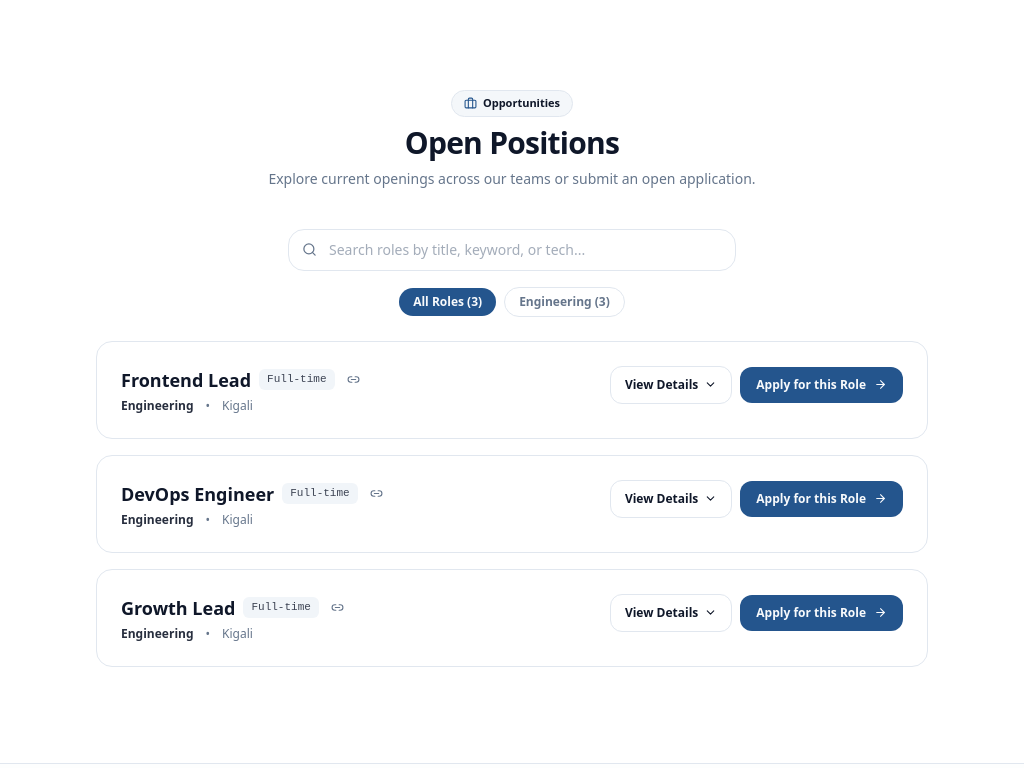
Careers — open positions › collapses role details when > 2 roles are present and toggles on click
This screenshot has width=1024, height=768.
(page scrolled)
Expected: the text "Lead the frontend team." is not shown
Expected: the text "React 19" is not shown
Click the button "View Details" in the row of "Frontend Lead".
click(671, 384)  # box x1=610 y1=366 x2=732 y2=404
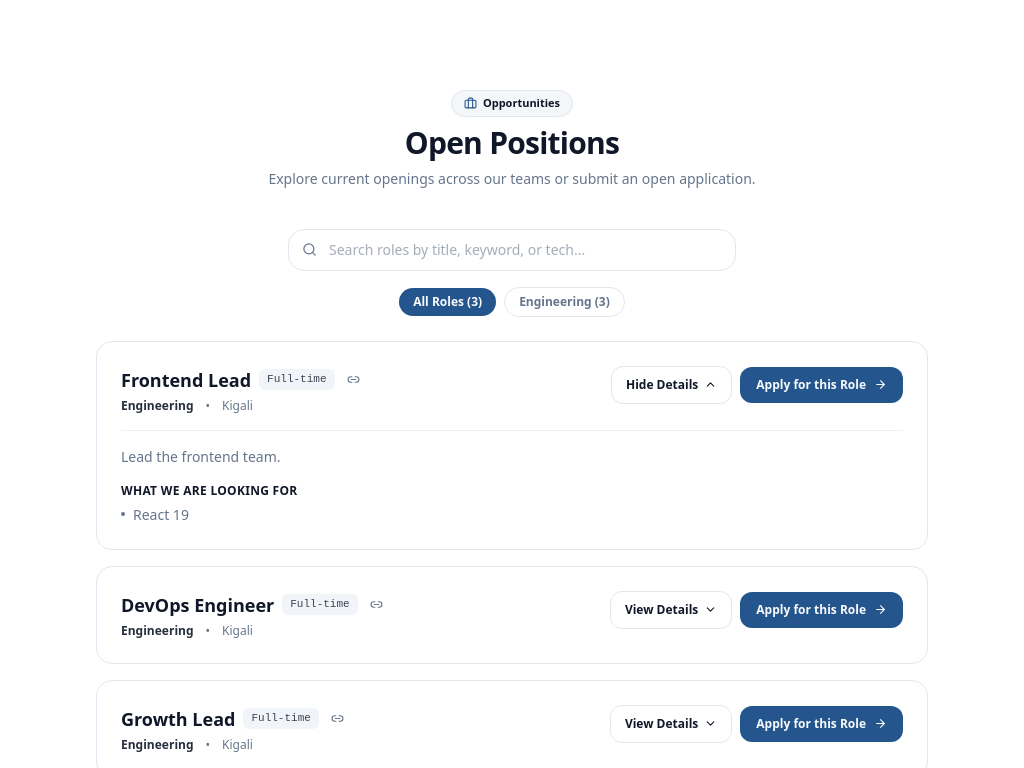
Now the text "Lead the frontend team." is shown, box x1=121 y1=446 x2=280 y2=466
Now the text "React 19" is shown, box x1=133 y1=504 x2=189 y2=524
Note: Collapse it back
Click the button "Hide Details".
click(672, 384)  # box x1=611 y1=366 x2=732 y2=404
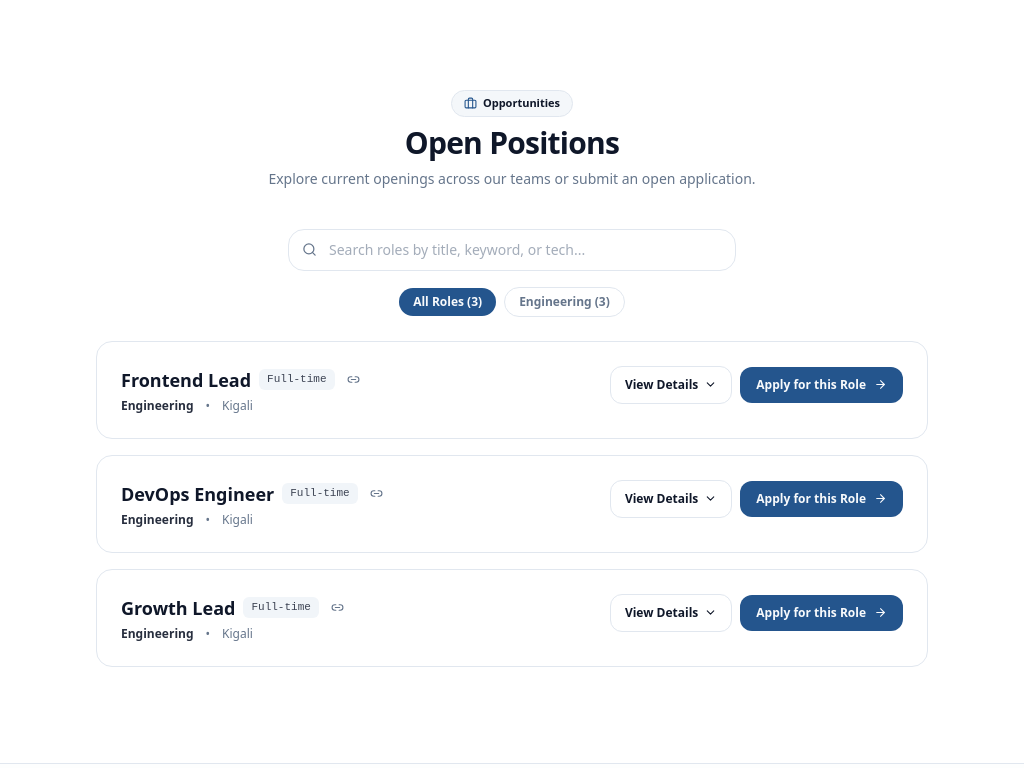
Now the text "Lead the frontend team." is gone
